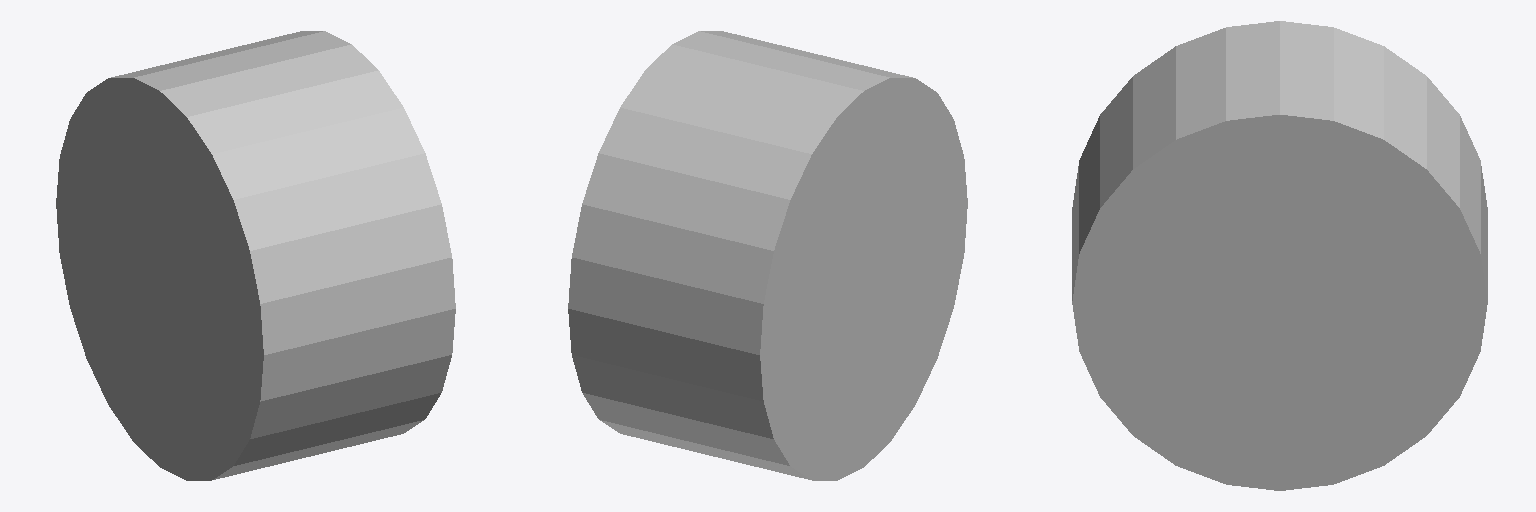
Rendered from wheel.obj.
3 renders of one model, left to right at view 1: azimuth 30°, elevation 25°; view 2: azimuth 150°, elevation 25°; view 3: azimuth 270°, elevation 25°, orthographic.
Size of the model in its own units: 0.04 by 0.075 by 0.075.